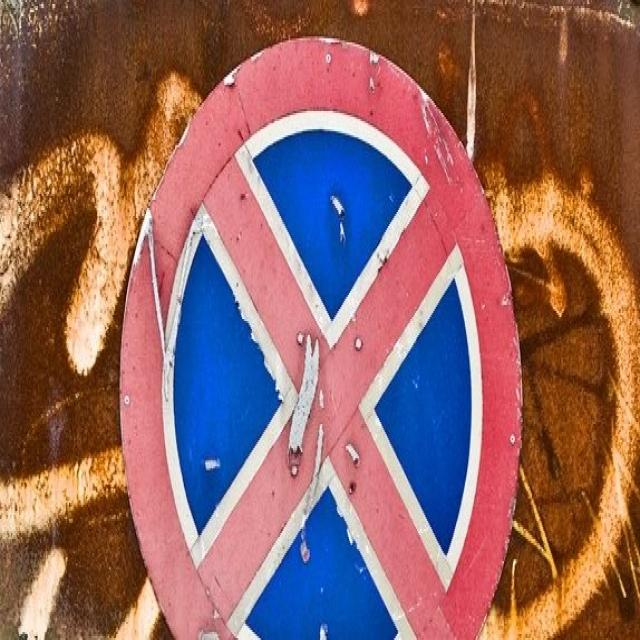no stopping: (115, 30, 527, 640)
